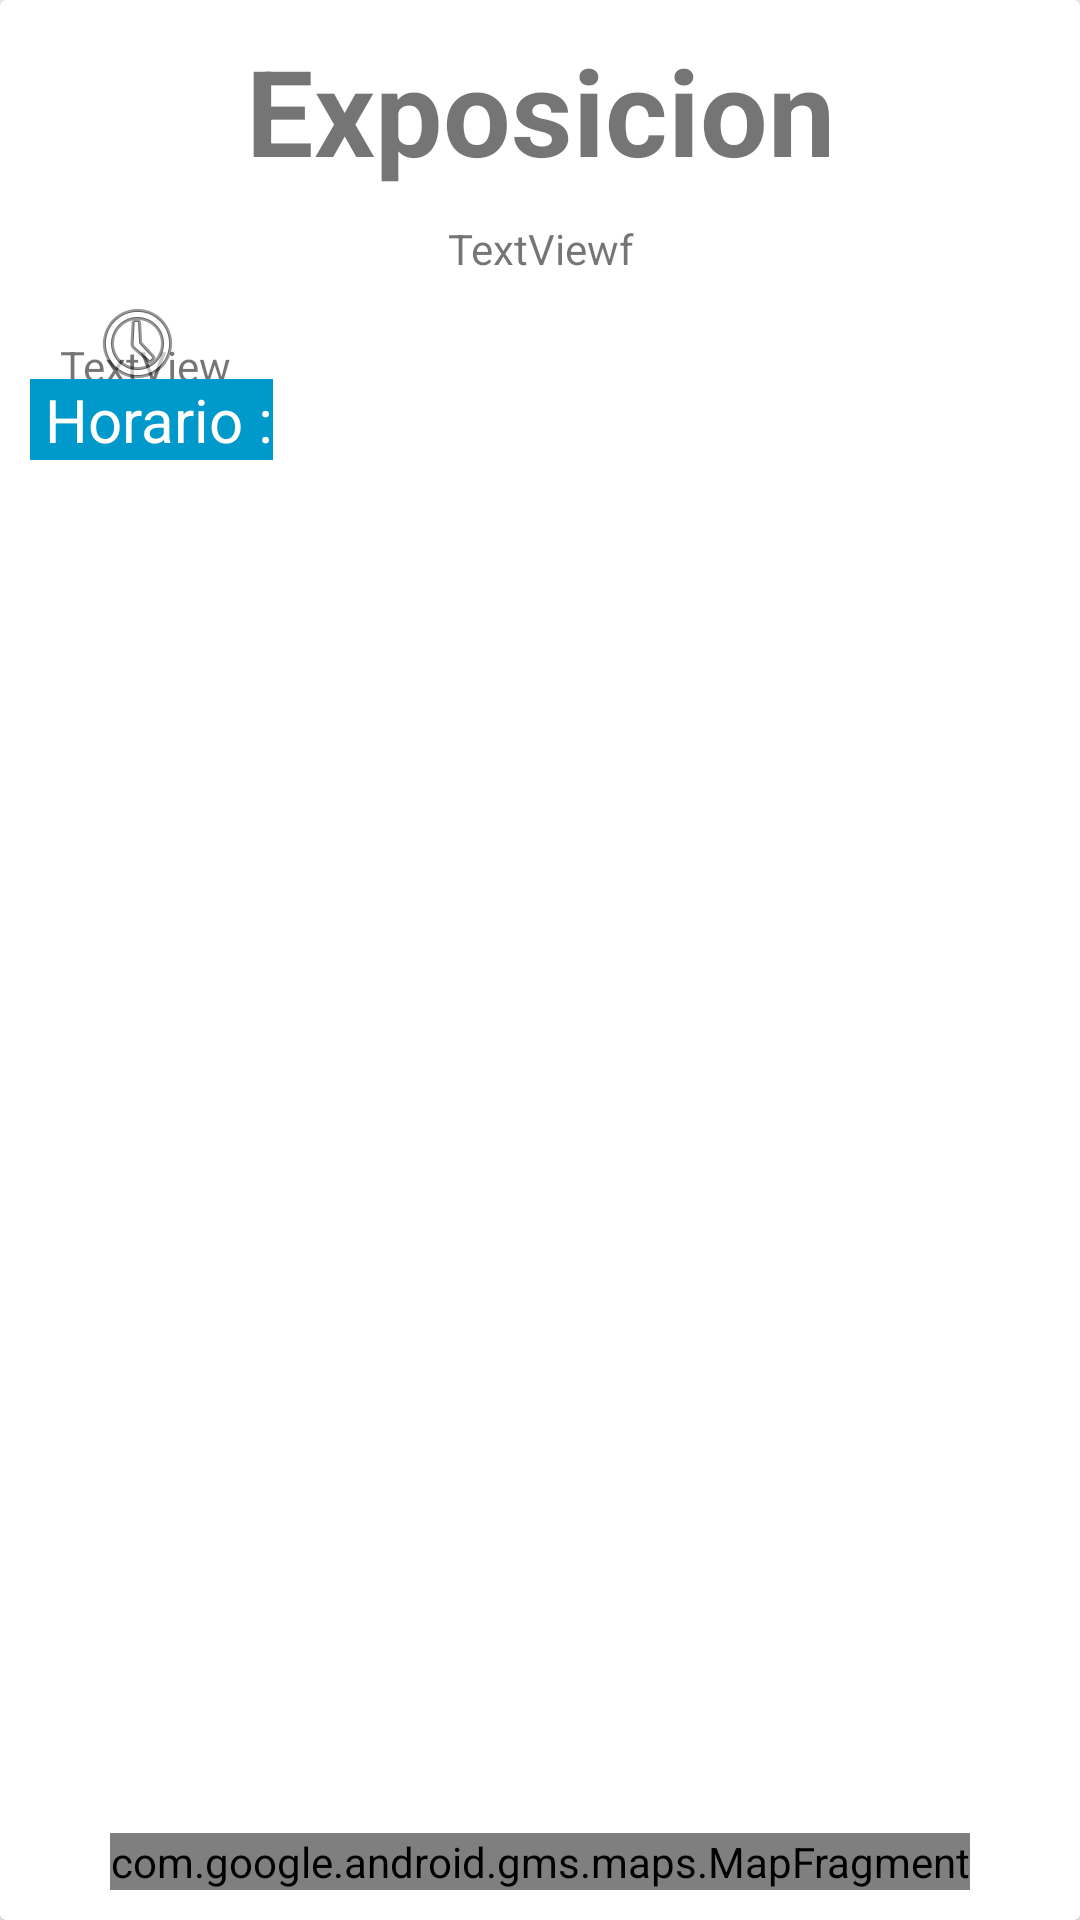

Point at icon controls on the screen. Image size 1080*1920, points as point (x, y).
recent history: point (138, 344)
